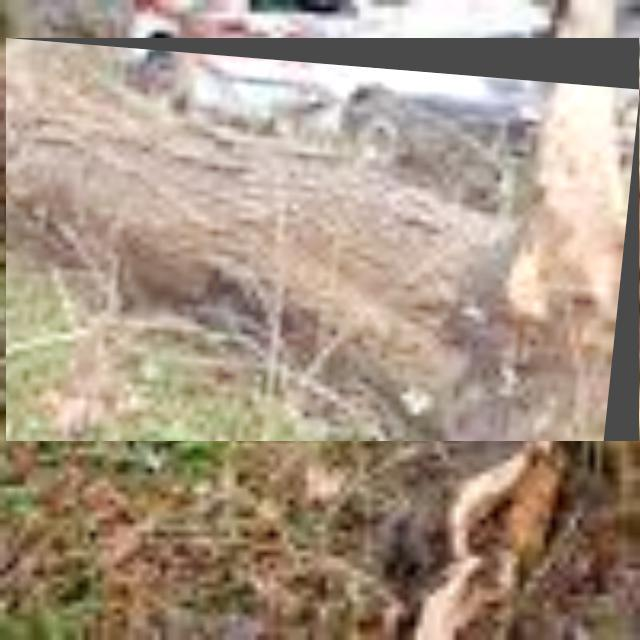fallen_tree: (6, 38, 640, 442)
